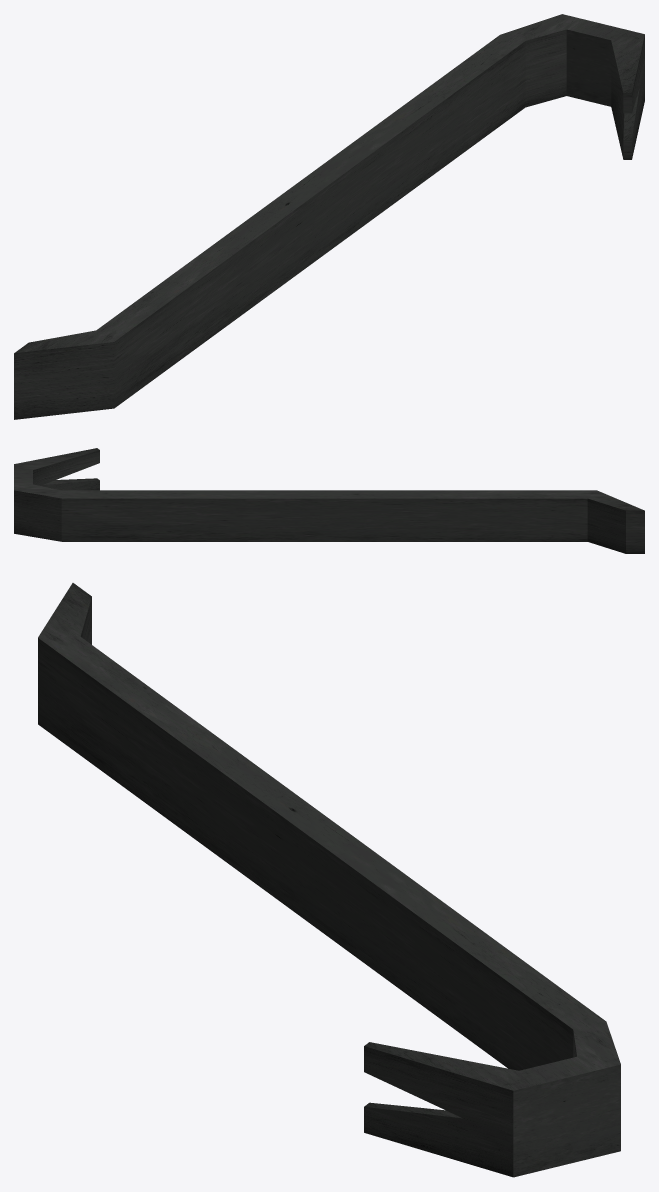
File: crowbar.fbx
3 renders of one model, top to bottom at view 1: azimuth 30°, elevation 25°; view 2: azimuth 150°, elevation 25°; view 3: azimuth 270°, elevation 25°, orthographic. The views are drawn at different scales.
Visible parts, largest first — view 1: crowbar.001; view 2: crowbar.001; view 3: crowbar.001.
Part boxes in pixels (x1,y1,x2,y2): crowbar.001: [14, 14, 644, 419]; crowbar.001: [14, 448, 644, 553]; crowbar.001: [38, 583, 620, 1177].
Bounding box in the file's own units: 0.6973 × 0.0554 × 0.3381.
Materials: 1 (1 with a texture image).
